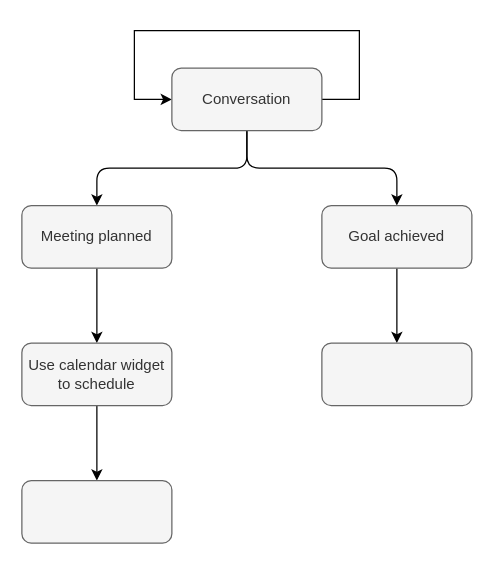
Some shapes in this 494 by 565 pixel diagram are drawn without their labels. Here are the shapes that lost their labels. From the top down, the box of each, then its label:
(321, 342, 472, 406): Send thank you card
(21, 479, 172, 543): Meet in person / call
